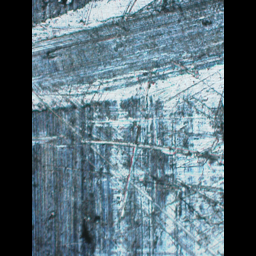d: (84, 0, 223, 253), (32, 0, 223, 115)
